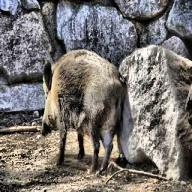boar: (40, 47, 127, 175)
